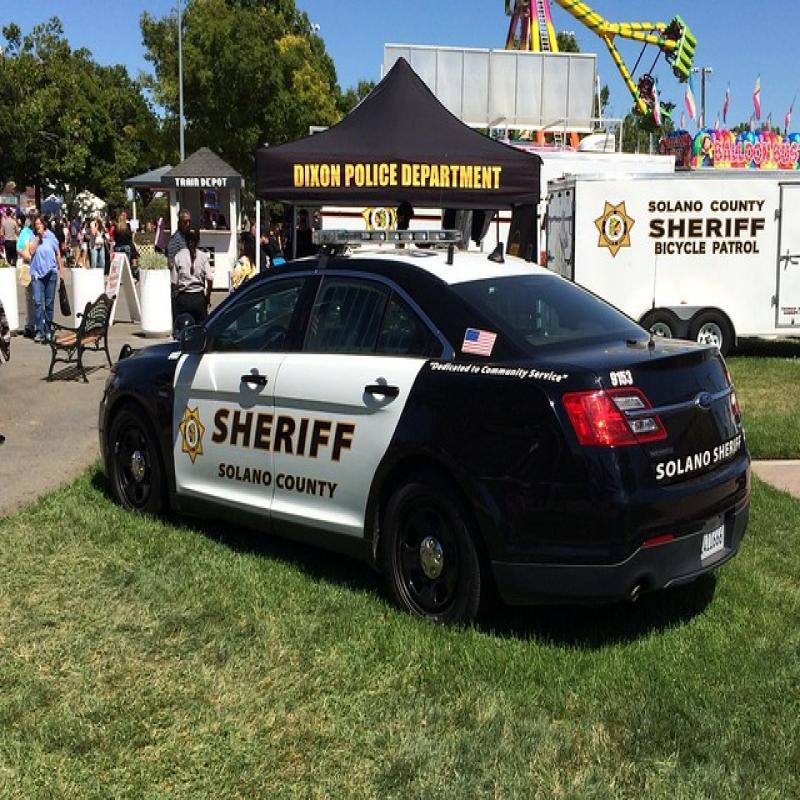AmbulanceSiren: (309, 198, 473, 266)
